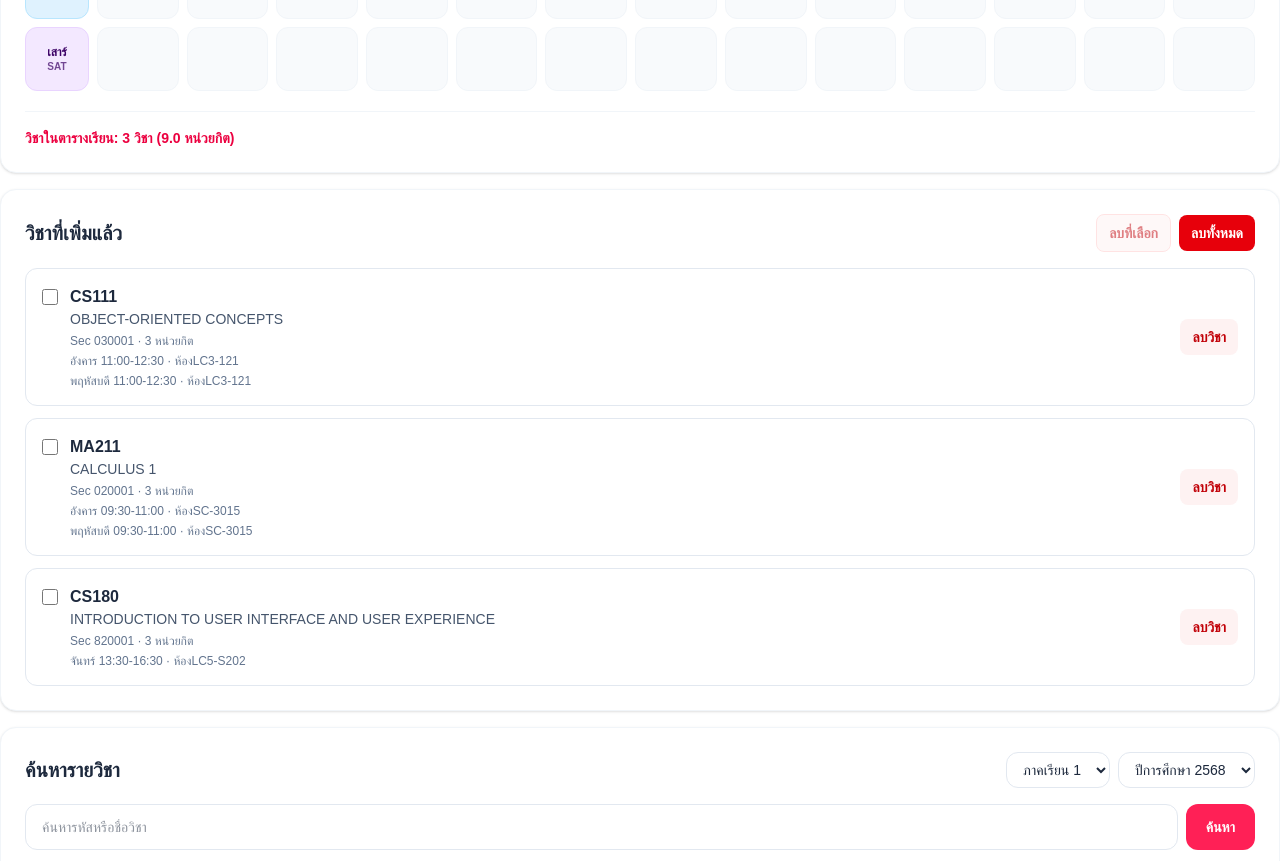
US2-T10 ต่อปุ่มลบ ↔ API ↔ DB ตาม Sequence Diagram ของ US2-T06 › ลบไม่สำเร็จเพราะเชื่อมต่อไม่ได้ ยังเก็บ checkbox ไว้ให้กดลบซ้ำ
(page scrolled)
Click the checkbox named "เลือกวิชา MA211": (50, 447) [42,439,58,455]
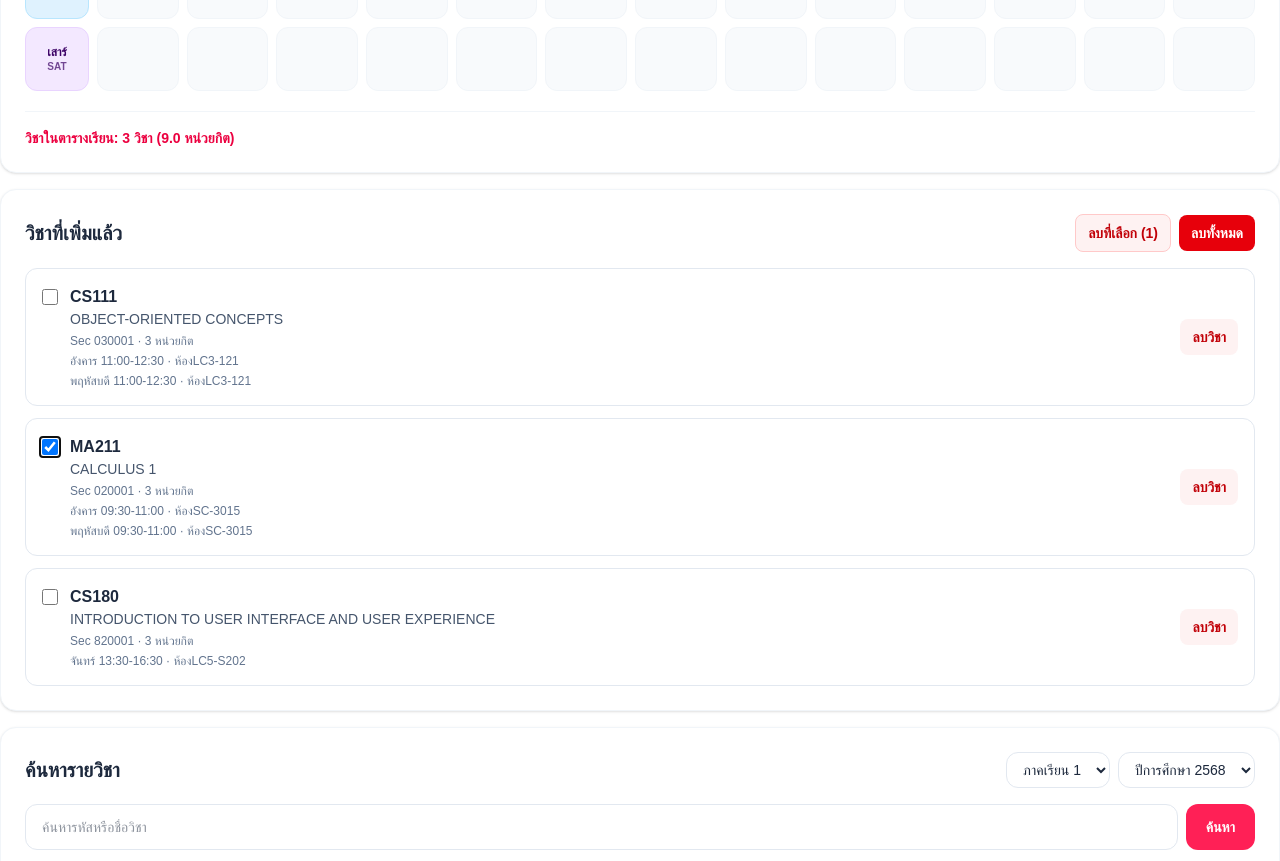
Click the button "ลบที่เลือก (1)": (1123, 233) [1075,214,1171,252]
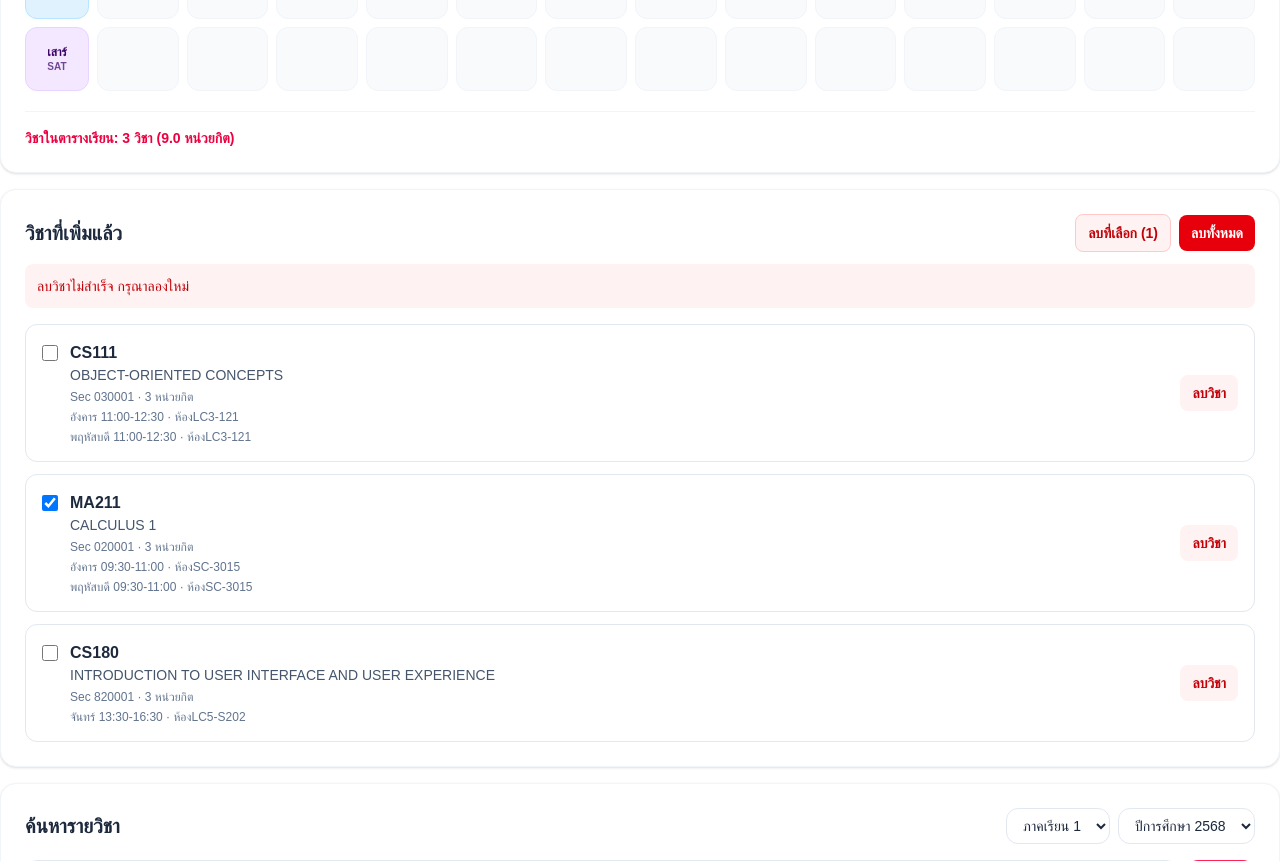
Check: the button "ลบที่เลือก (1)" is enabled, box [1075,214,1171,252]
Check: the text "ลบวิชาไม่สำเร็จ กรุณาลองใหม่" is shown, box [25,264,1255,308]
